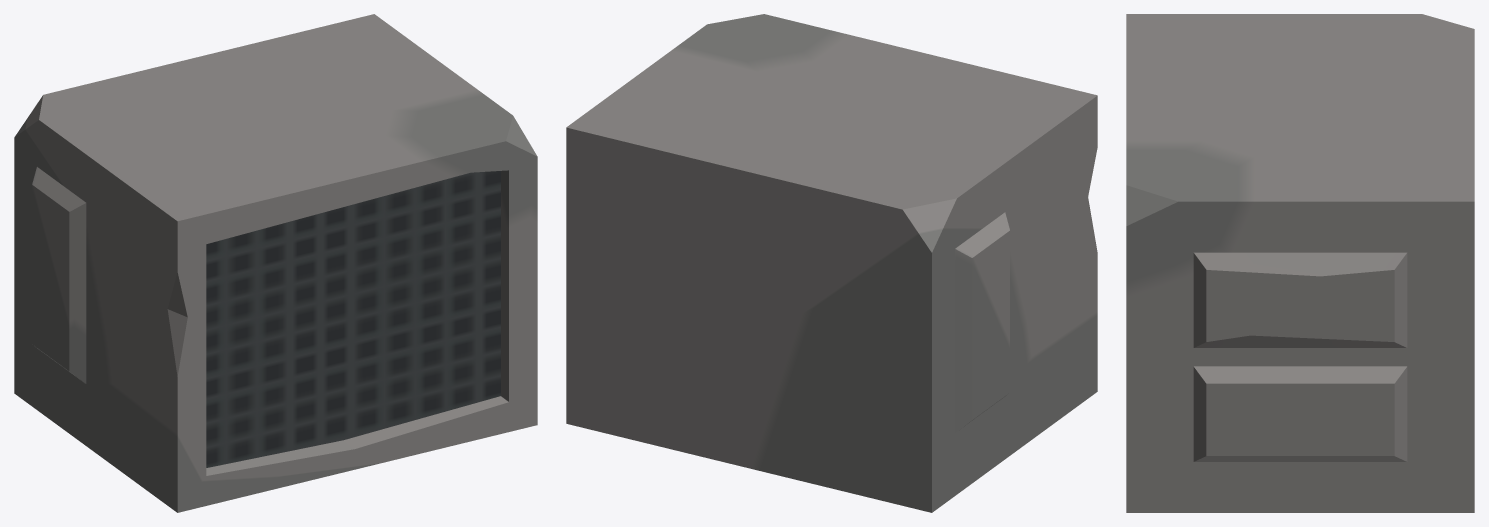
File: SM_Prop_Airconditioner_05.glb
The picture shows the model from 3 angles, left to right: view 1: azimuth 30°, elevation 25°; view 2: azimuth 150°, elevation 25°; view 3: azimuth 270°, elevation 25°; orthographic projection. The views are drawn at different scales.
Parts seen in each view (by area): view 1: SM_Prop_Airconditioner_05; view 2: SM_Prop_Airconditioner_05; view 3: SM_Prop_Airconditioner_05.
Part boxes in pixels (x1=…): SM_Prop_Airconditioner_05: x1=14, y1=14, x2=537, y2=512; SM_Prop_Airconditioner_05: x1=566, y1=14, x2=1097, y2=512; SM_Prop_Airconditioner_05: x1=1126, y1=14, x2=1474, y2=512.
Size of the model in its own units: 0.841 by 0.6137 by 0.6227.
1 material, 1 textured.
